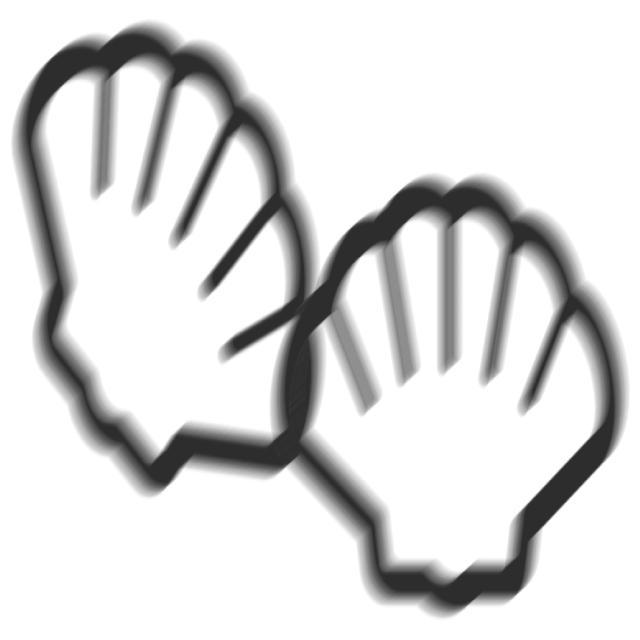shell: (267, 161, 632, 629), (11, 13, 331, 511)
